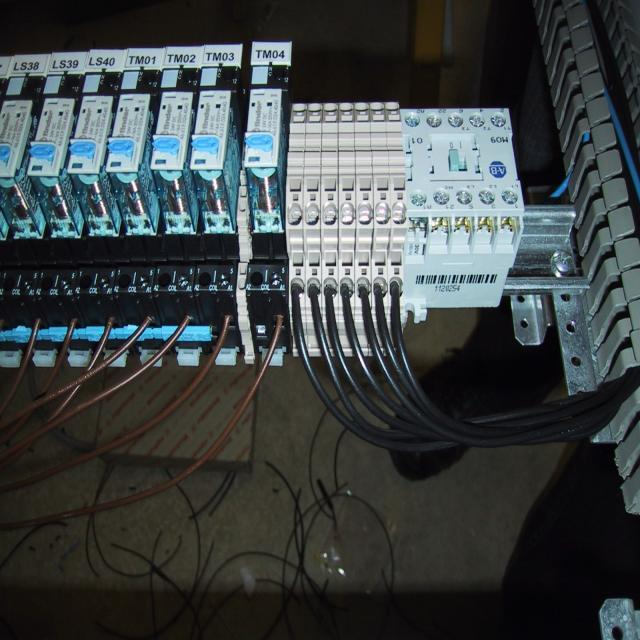Klemmenleiste: (286, 99, 407, 282)
Leistungsschutz: (402, 109, 523, 304)
Relais: (25, 53, 87, 177), (65, 51, 126, 176), (106, 49, 164, 174), (0, 53, 53, 178), (190, 44, 242, 169), (243, 45, 292, 169), (151, 51, 201, 170)
